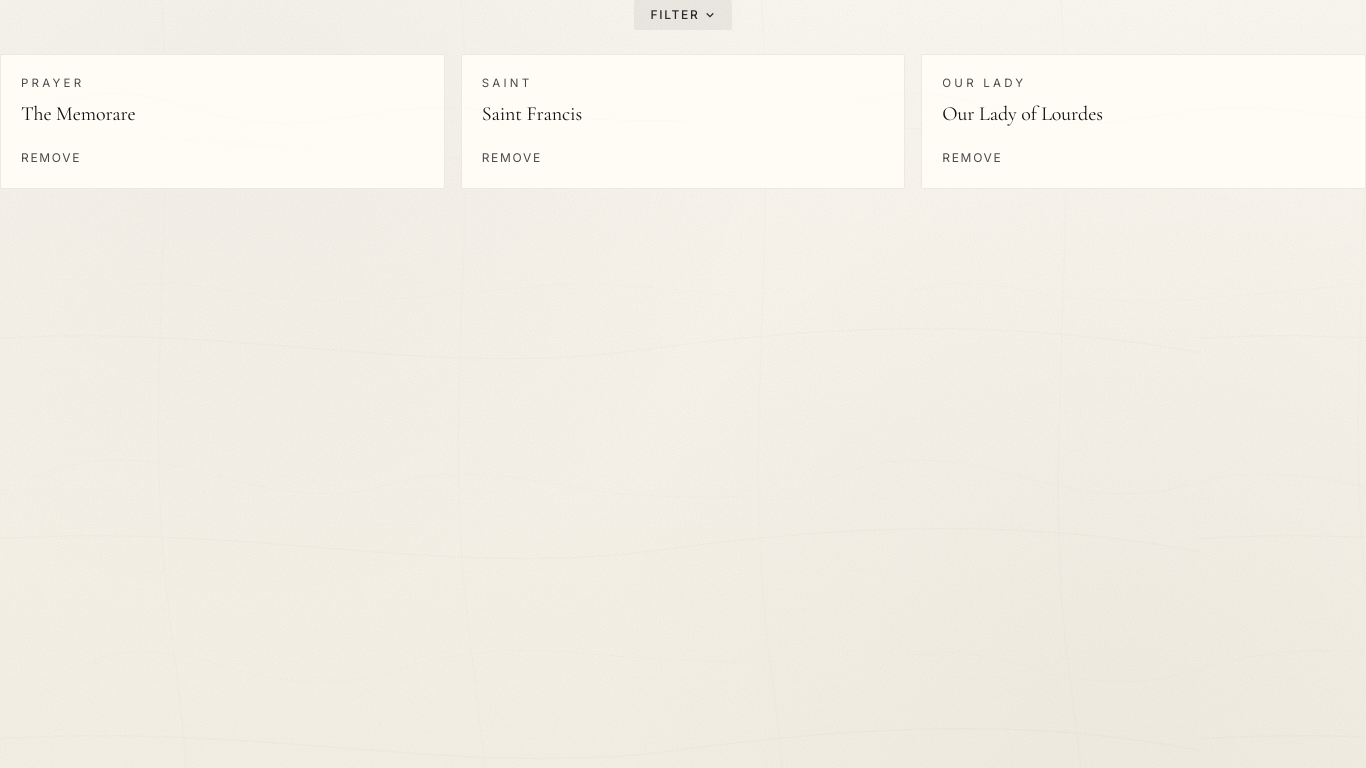
FavoritesBrowser › removes a favorite via DELETE /api/saved/<kind> and drops it from the list
Click the button "Remove" below "The Memorare": (51, 158) [21,150,81,166]
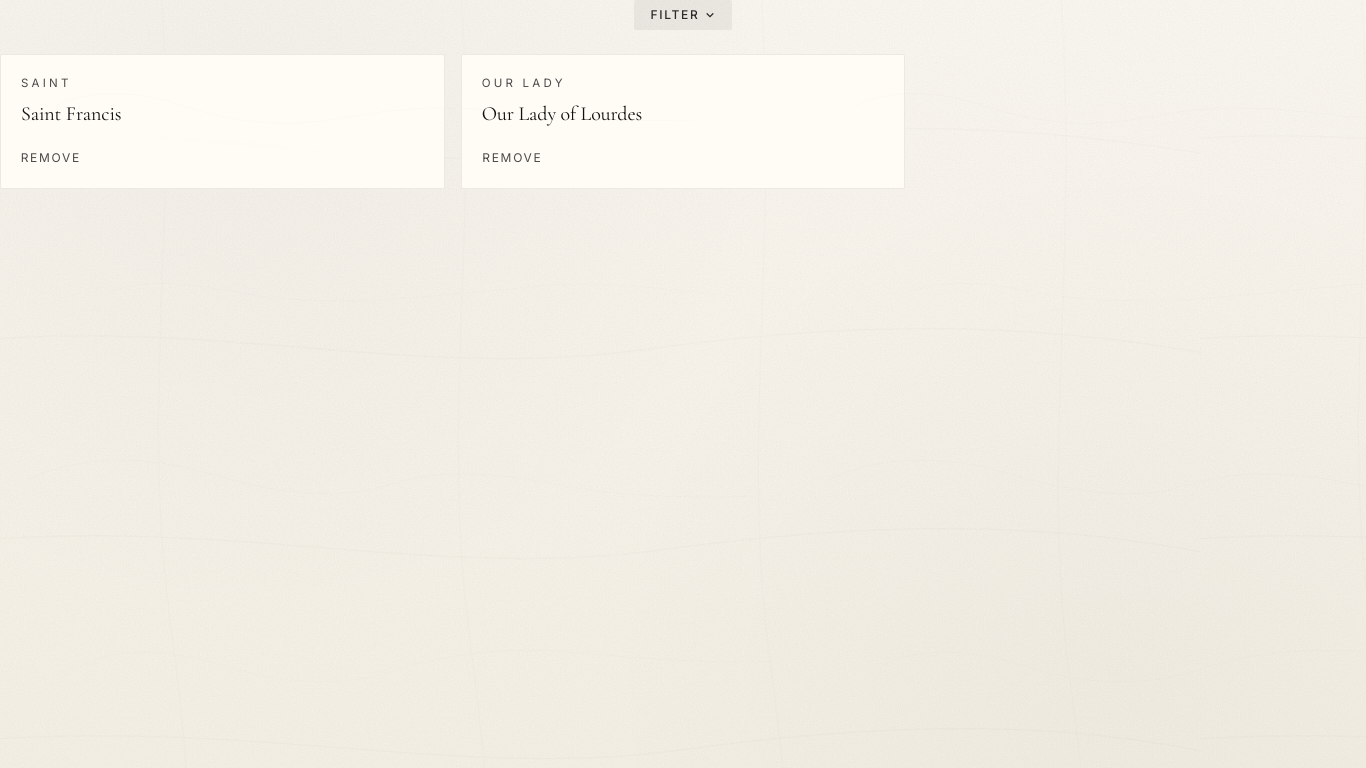
Expected: the link "The Memorare" is gone
